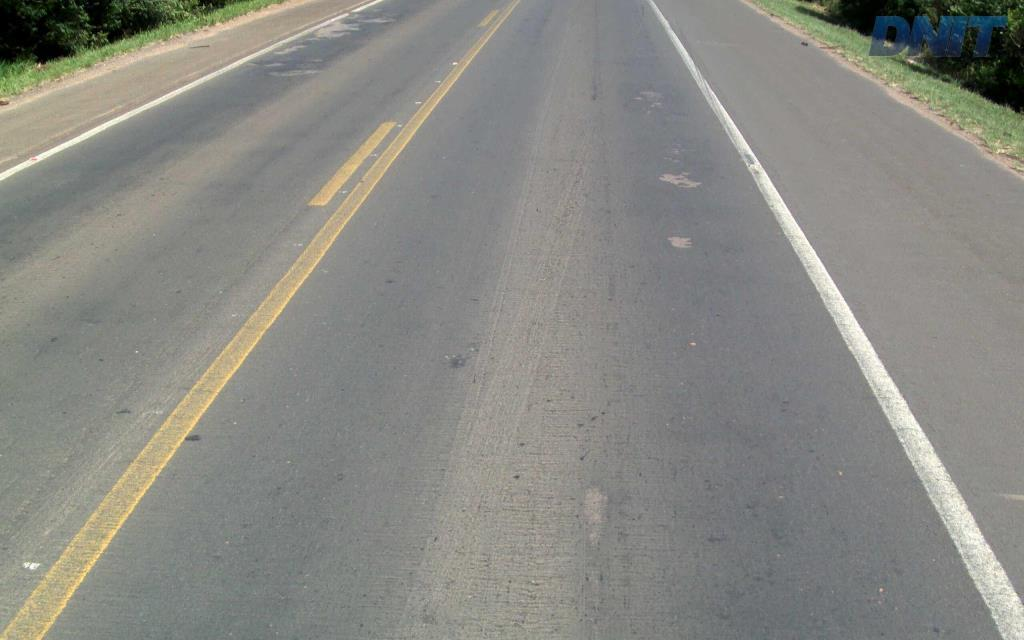pothole: (651, 164, 706, 191), (660, 233, 698, 250)
